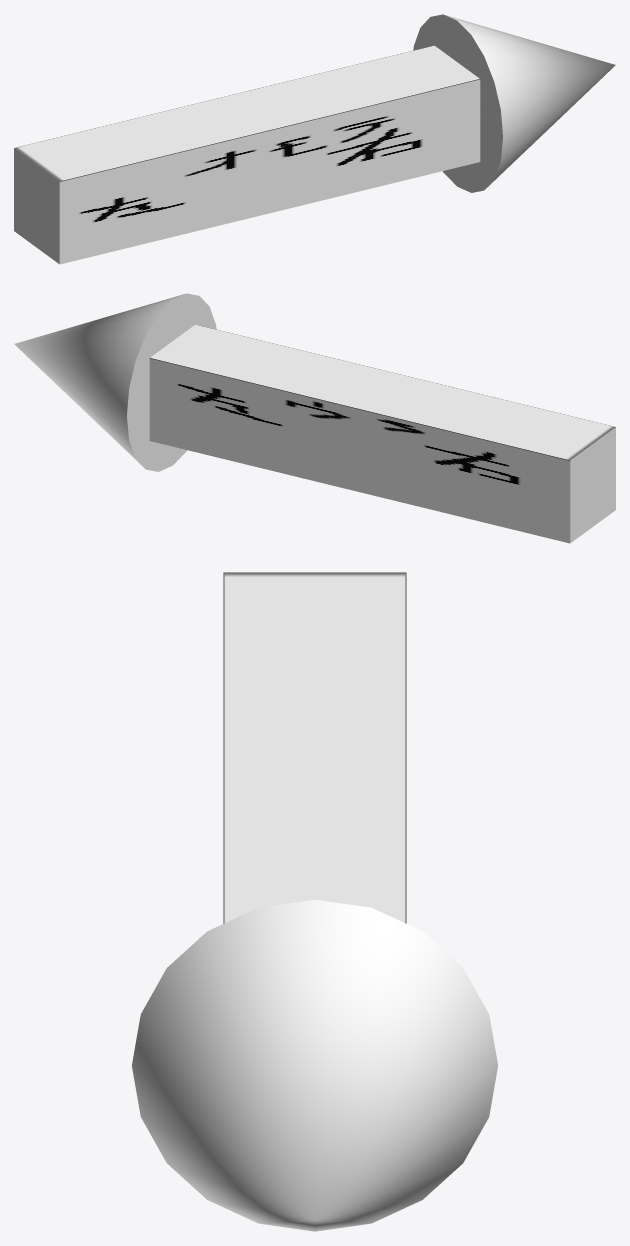
File: yajirusi.fbx
The picture shows the model from 3 angles, top to bottom: view 1: azimuth 30°, elevation 25°; view 2: azimuth 150°, elevation 25°; view 3: azimuth 270°, elevation 25°; orthographic projection. The views are drawn at different scales.
Visible parts, largest first — view 1: pCube2; view 2: pCube2; view 3: pCube2.
Part boxes in pixels (<box>): pCube2: <box>14,14,615,264</box>; pCube2: <box>14,293,615,543</box>; pCube2: <box>131,572,498,1231</box>.
Bounding box in the file's own units: 7.3 × 2 × 2.
Materials: 1 (1 with a texture image).
